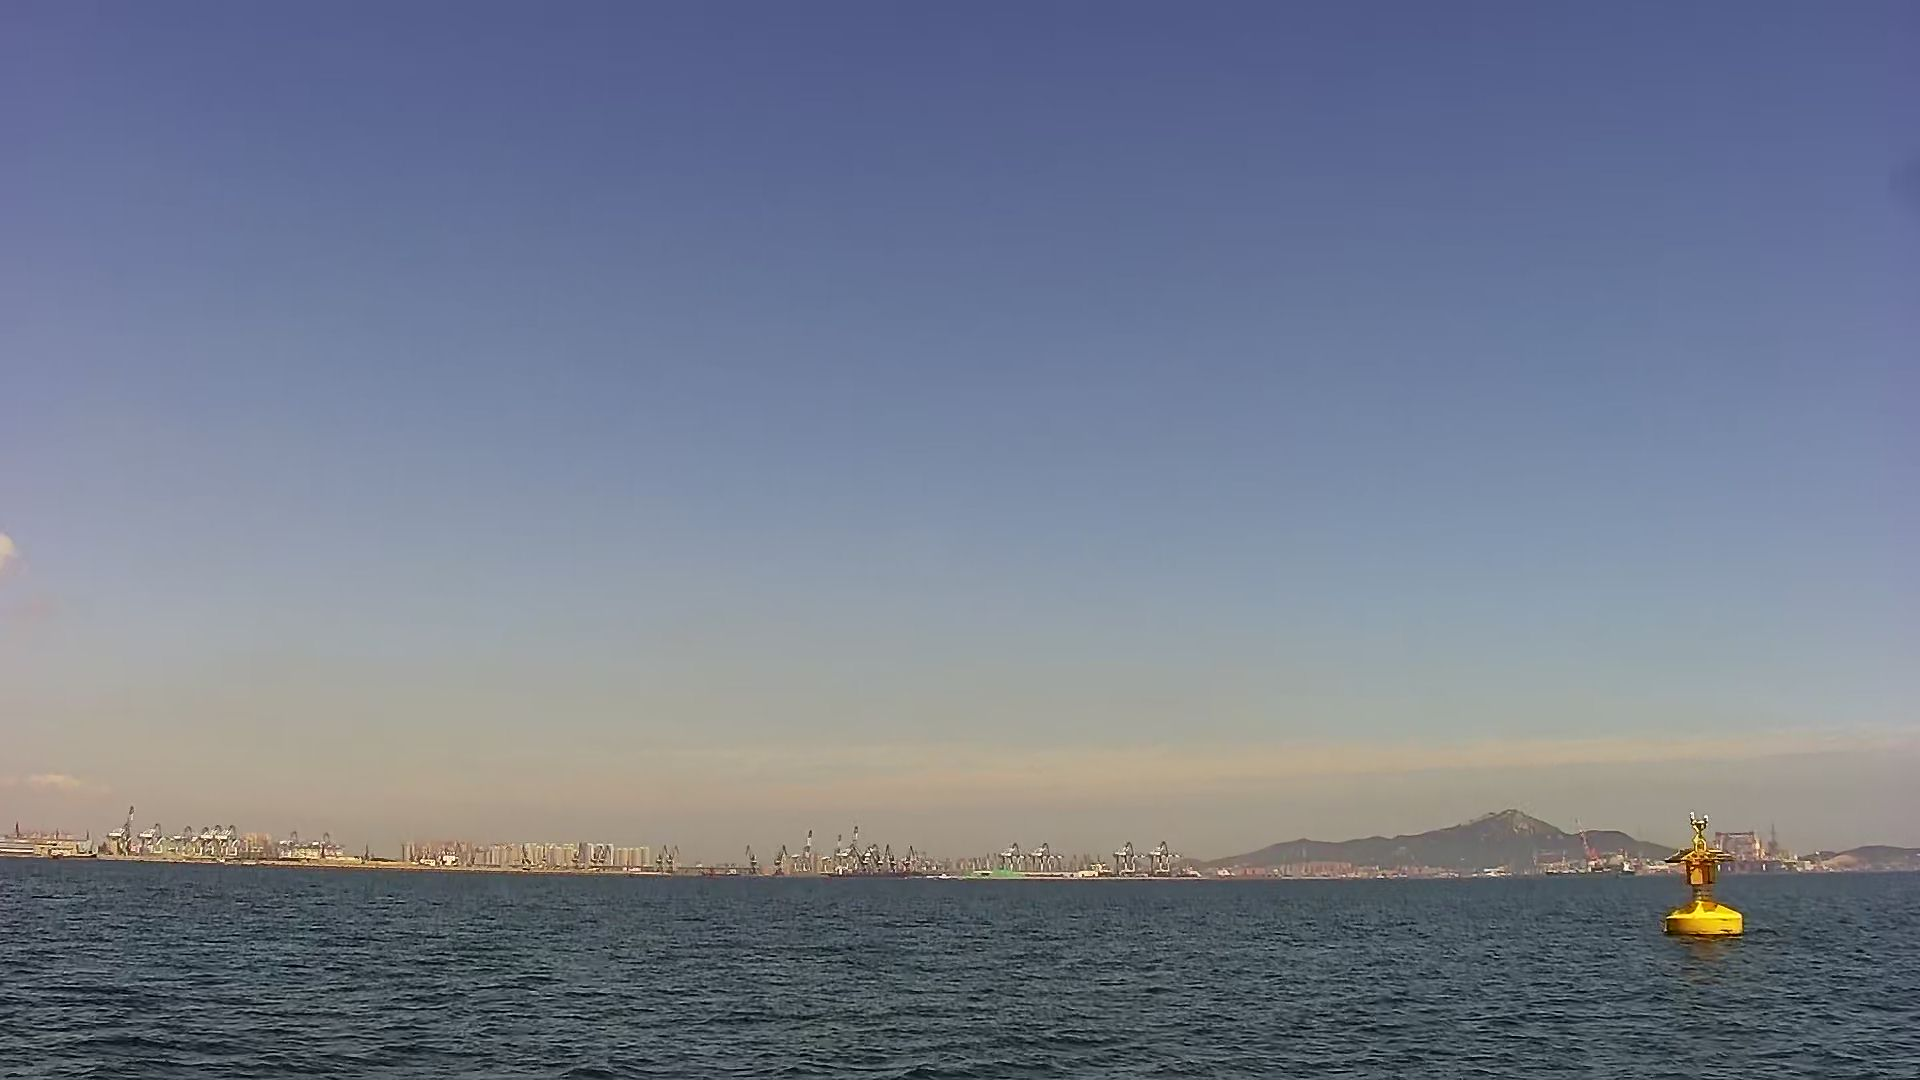buoy: (1663, 814, 1749, 936)
